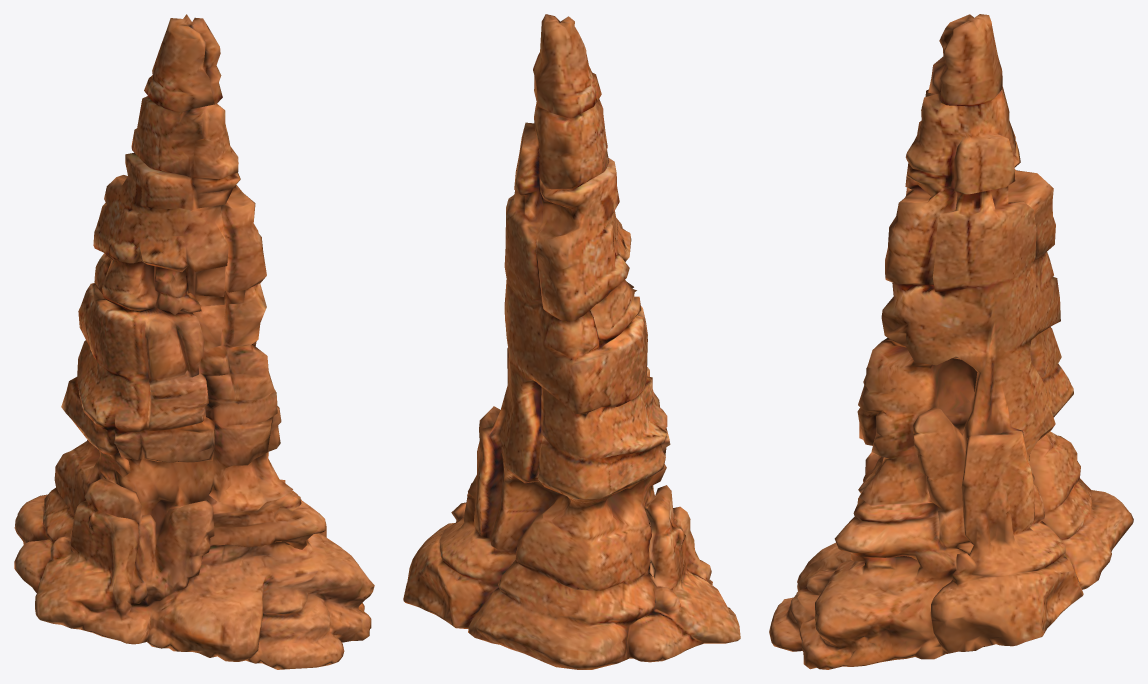
The model's file is spire_3.gltf.
3 renders of one model, left to right at view 1: azimuth 30°, elevation 25°; view 2: azimuth 150°, elevation 25°; view 3: azimuth 270°, elevation 25°, orthographic. The views are drawn at different scales.
Parts seen in each view (by area): view 1: spire_3; view 2: spire_3; view 3: spire_3.
Part boxes in pixels (x1,y1,x2,y2): spire_3: (14,14,374,669); spire_3: (403,14,740,669); spire_3: (769,14,1133,669).
Bounding box in the file's own units: 35.89 × 70 × 38.46.
1 material, 1 textured.
